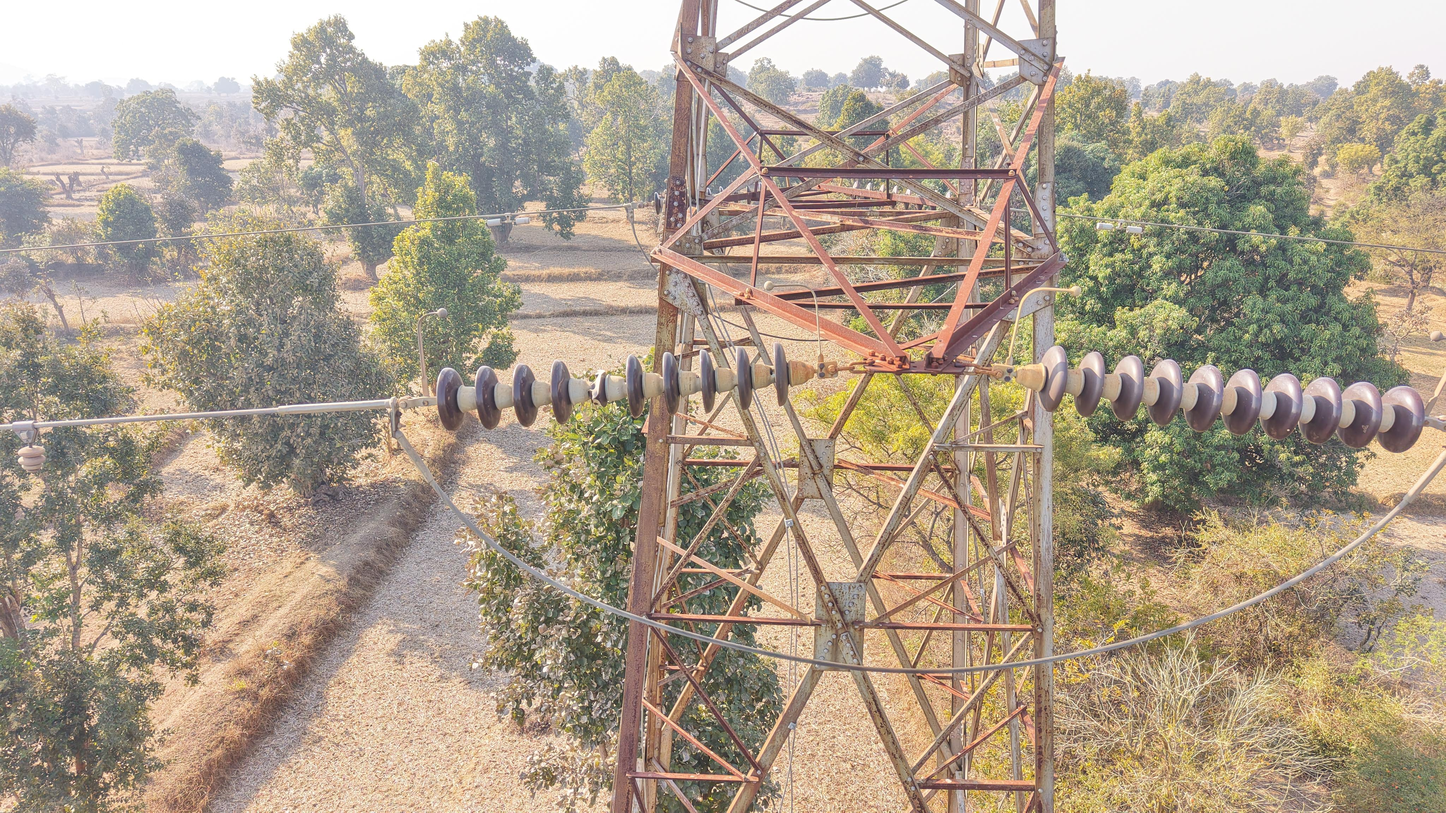broken_insulator: (580, 358, 617, 421)
